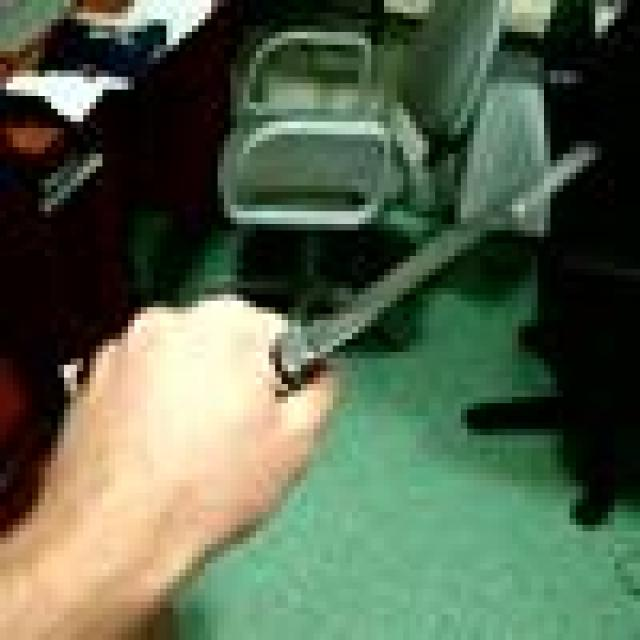knife: (285, 144, 599, 370)
